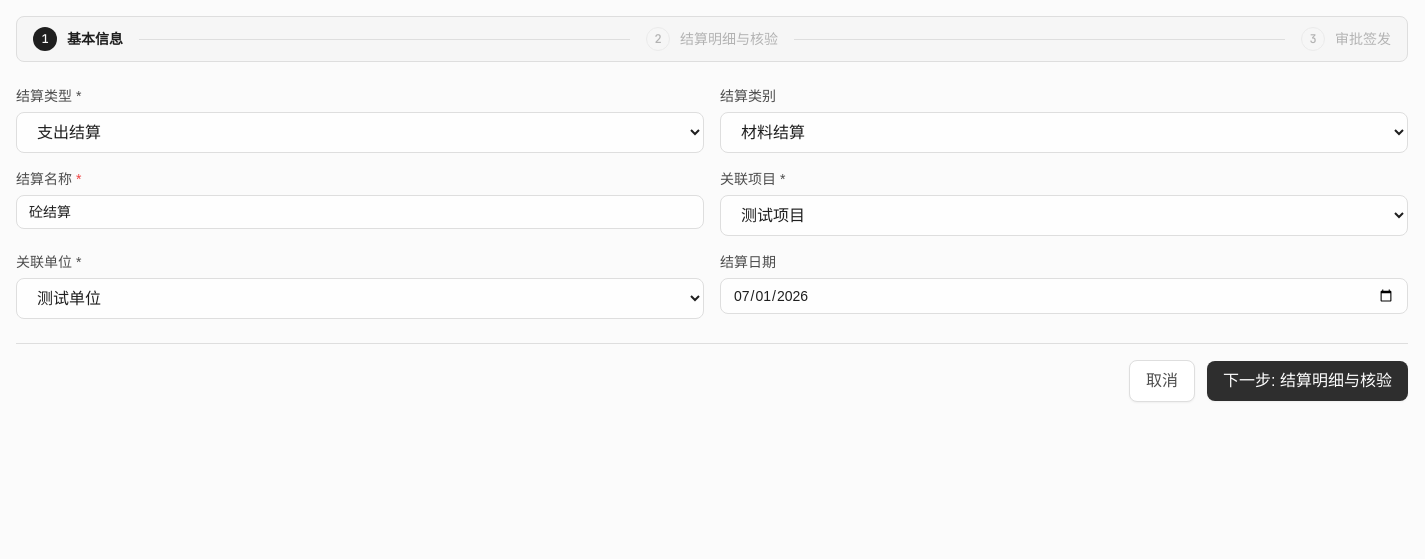
Scenario: SettlementForm (S20) › 编辑模式：明细合计与金额不一致时显示"有差异"
Click the button "下一步: 结算明细与核验".
click(1308, 381)  # box 1207,361 -> 1408,401
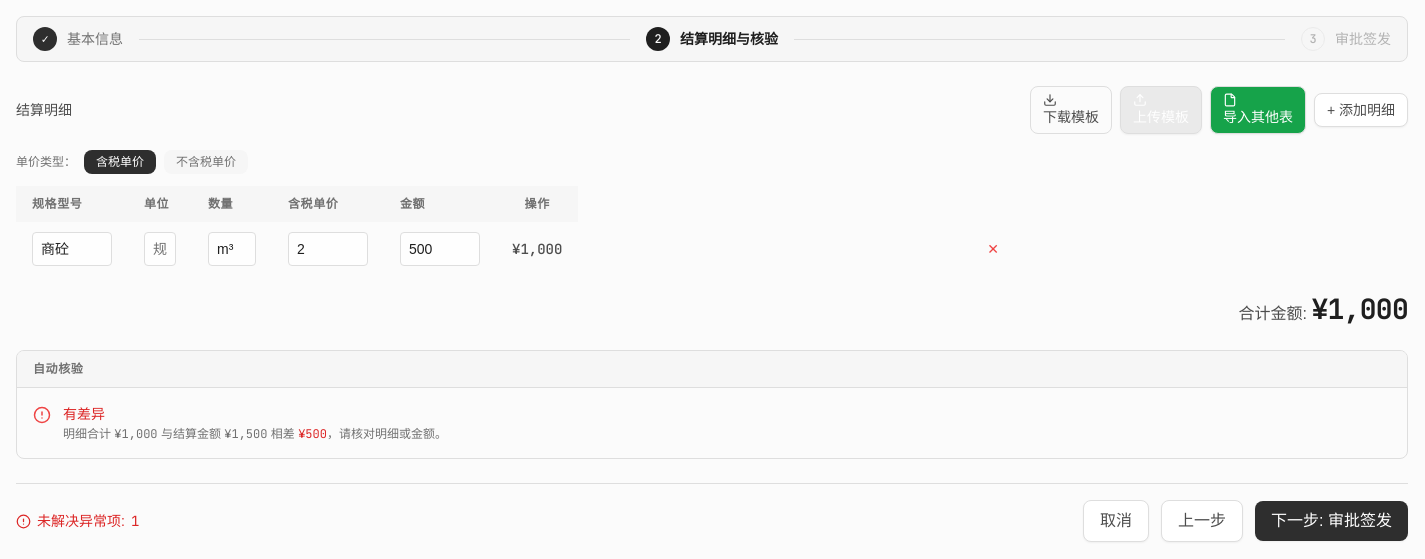
expect the text "有差异" is shown: met, box 63,406 -> 105,422
